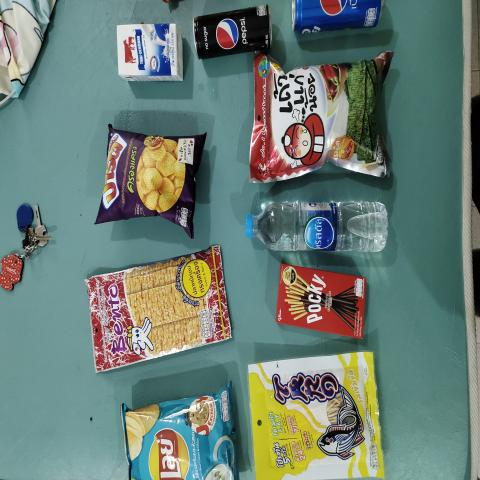bento_red: (80, 256, 230, 360)
crystal: (245, 198, 391, 258)
lay_blue: (128, 402, 230, 480)
party_purple: (109, 130, 200, 216)
pepsi_black: (193, 13, 274, 53)
pepsi_blue: (290, 0, 374, 35)
pokki: (278, 263, 365, 335)
taokaenoi: (262, 66, 377, 172)
taro_yellow: (250, 363, 377, 480)
thai_denmark: (118, 23, 182, 78)
